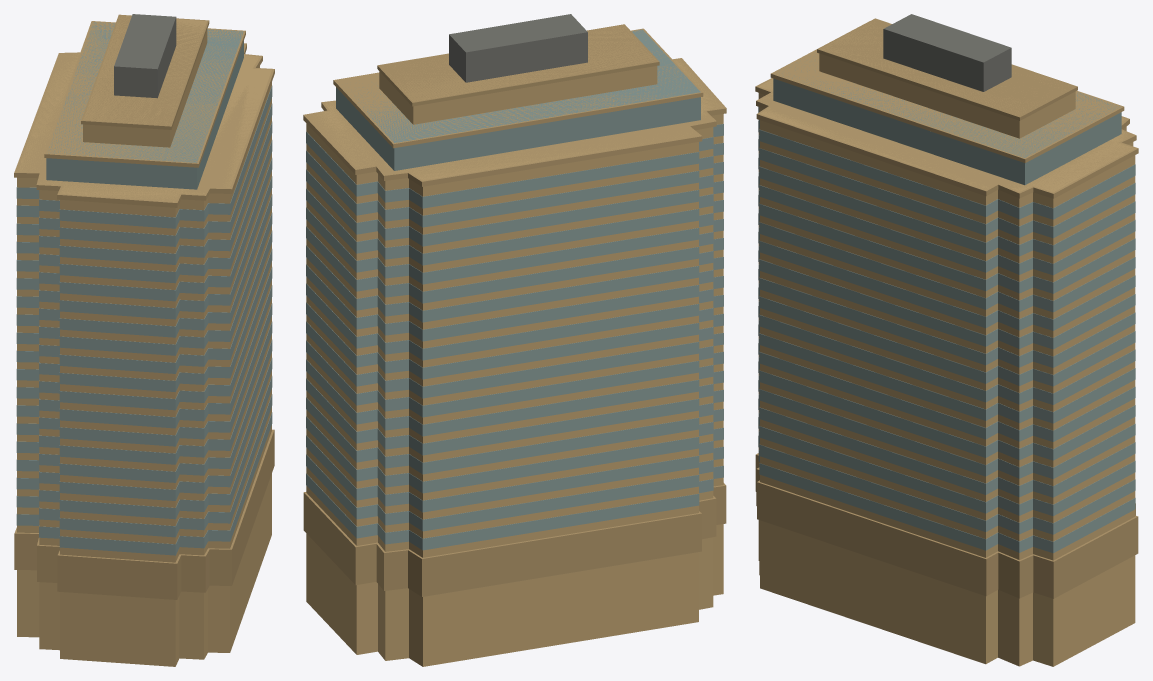
File: riverfront-plaza-west-tower.glb
The picture shows the model from 3 angles, left to right: view 1: azimuth 30°, elevation 25°; view 2: azimuth 150°, elevation 25°; view 3: azimuth 270°, elevation 25°; orthographic projection. The views are drawn at different scales.
Visible parts, largest first — view 1: shaft; view 2: shaft; view 3: shaft.
Part boxes in pixels (x1,y1,x2,y2): shaft: (14,14,274,666); shaft: (303,14,726,666); shaft: (755,14,1138,666).
Bounding box in the file's own units: 66.4 × 112 × 70.33.
